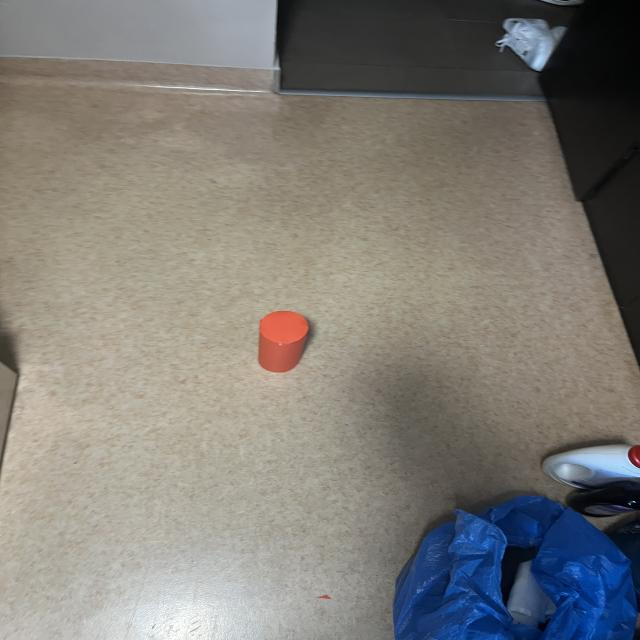przeszkoda: (258, 311, 309, 372)
